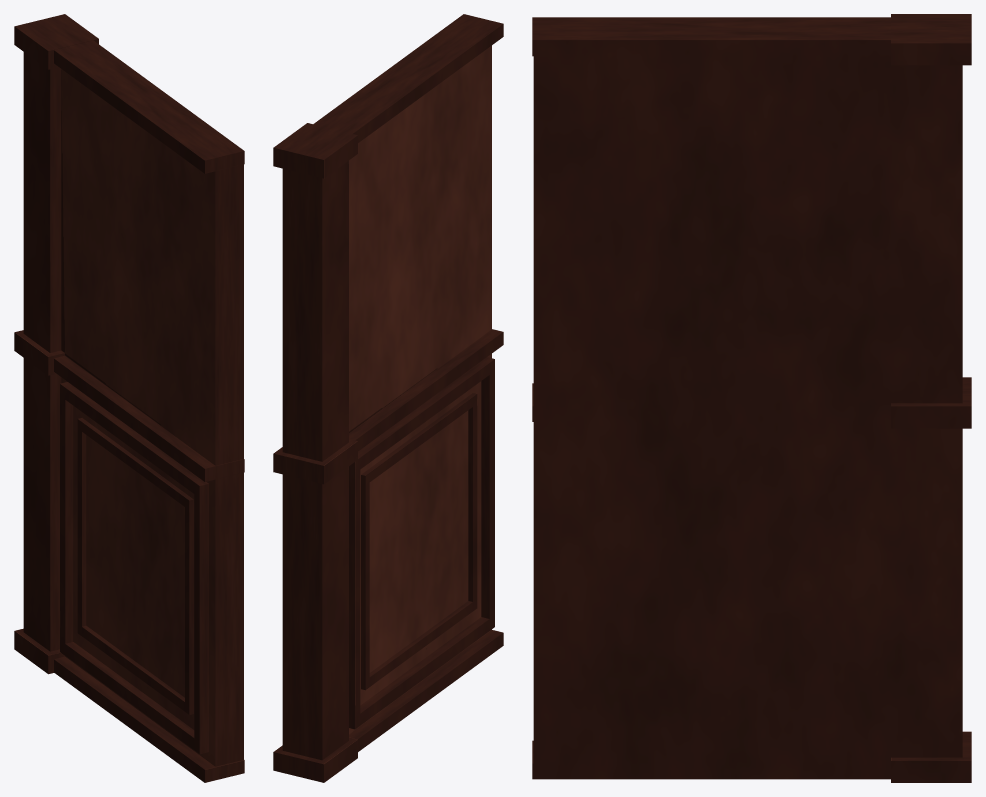
The model's file is leftWallSingle.glb.
3 renders of one model, left to right at view 1: azimuth 30°, elevation 25°; view 2: azimuth 150°, elevation 25°; view 3: azimuth 270°, elevation 25°, orthographic. The views are drawn at different scales.
Parts seen in each view (by area): view 1: leftWallSingle_V5_TEMP; view 2: leftWallSingle_V5_TEMP; view 3: leftWallSingle_V5_TEMP.
Part boxes in pixels (bbox=[...]): leftWallSingle_V5_TEMP: bbox=[14, 14, 244, 782]; leftWallSingle_V5_TEMP: bbox=[273, 14, 503, 782]; leftWallSingle_V5_TEMP: bbox=[532, 14, 971, 782].
Bounding box in the file's own units: 2.36 × 27.8 × 14.96.
1 material, 1 textured.
